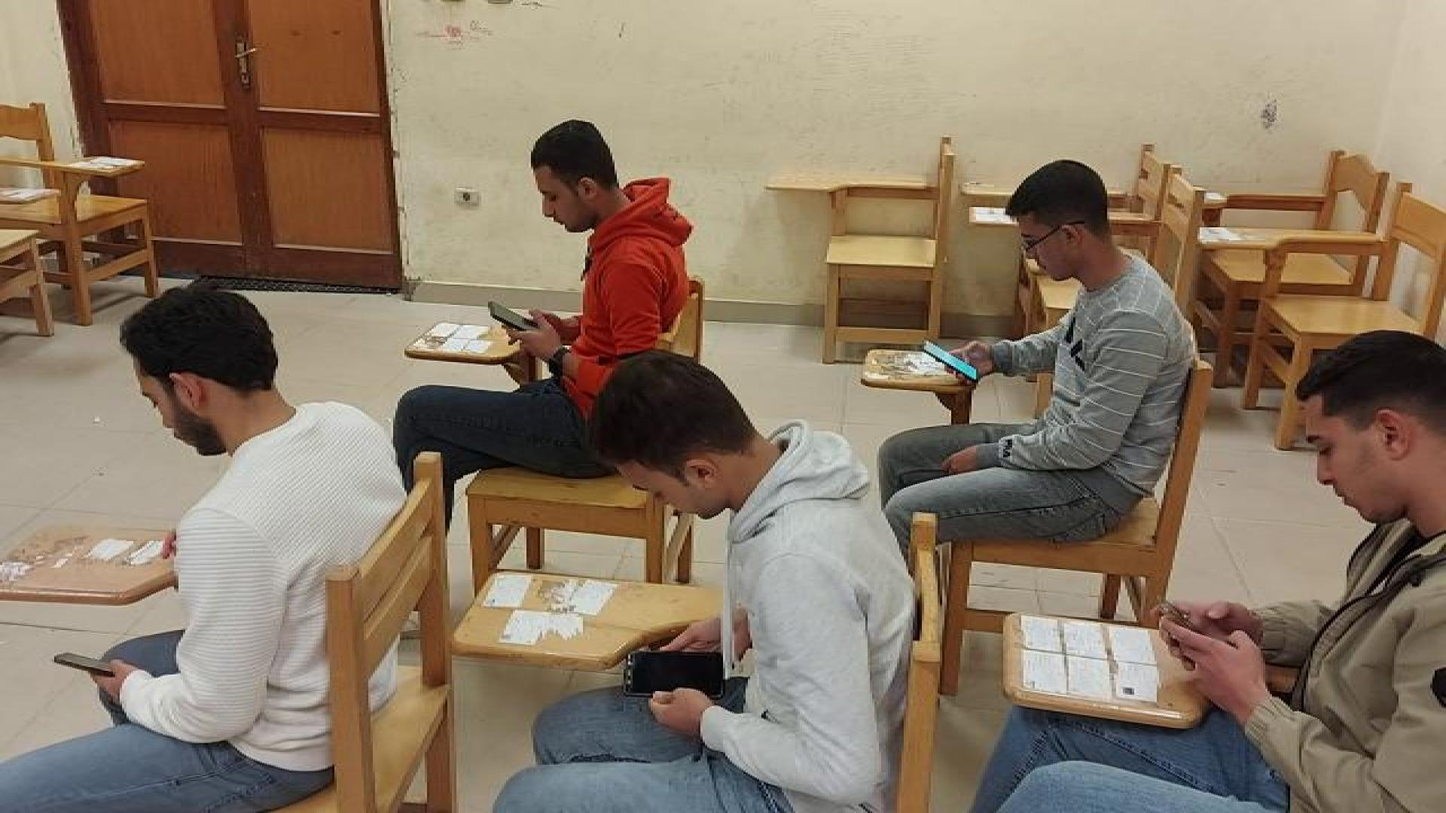phone: (618, 645, 735, 705), (916, 331, 986, 387), (45, 642, 133, 683), (481, 295, 549, 337)
